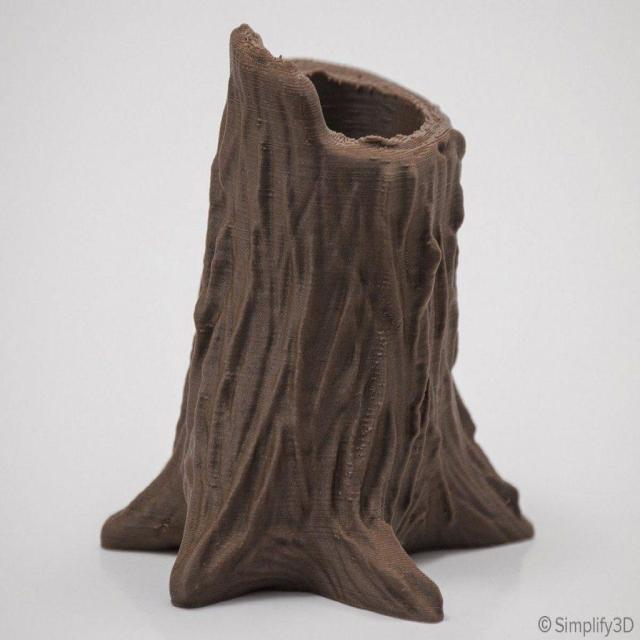Without deffect: (110, 21, 539, 634)
